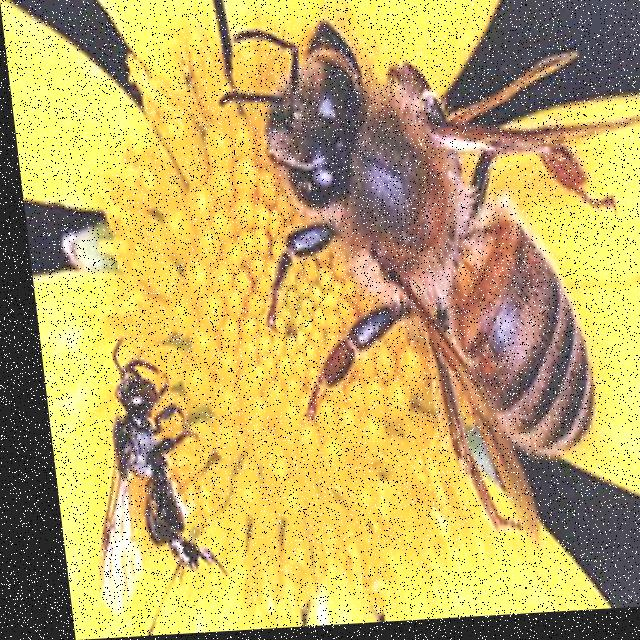Allodapula: (54, 312, 219, 626)
Apis-mellifera-scutellata: (212, 0, 640, 553)
